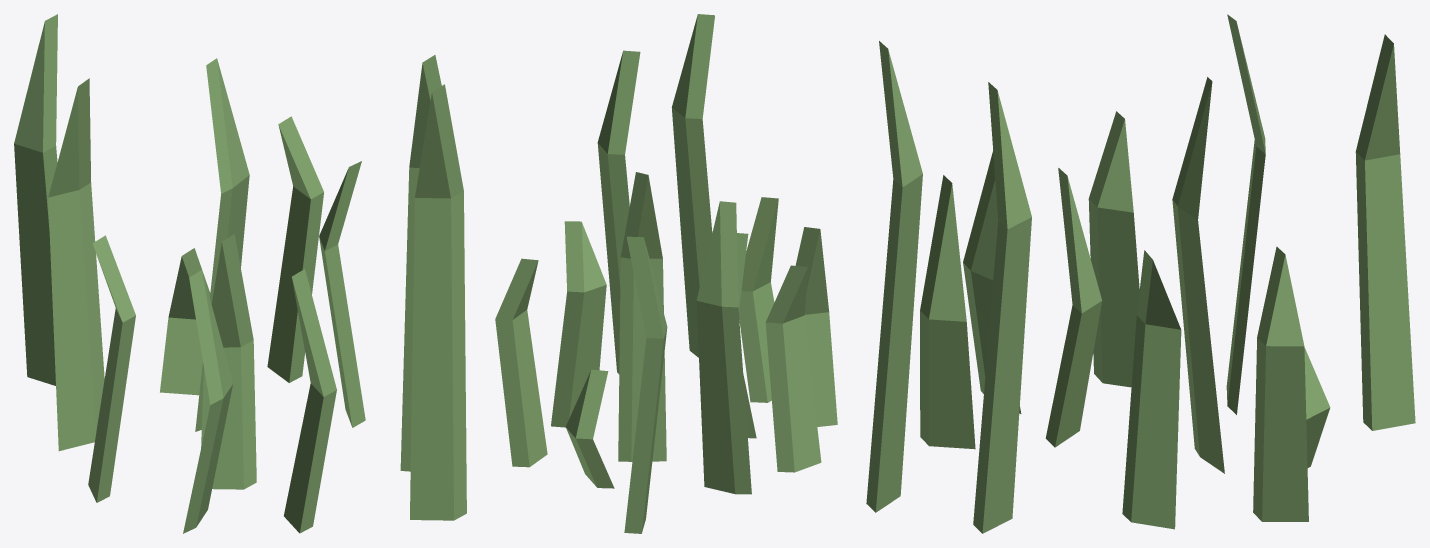
Rendered from grass_short.glb.
The picture shows the model from 3 angles, left to right: view 1: azimuth 30°, elevation 25°; view 2: azimuth 150°, elevation 25°; view 3: azimuth 270°, elevation 25°; orthographic projection. The views are drawn at different scales.
Parts seen in each view (by area): view 1: Grass_Short; view 2: Grass_Short; view 3: Grass_Short.
Part boxes in pixels (x1=…): Grass_Short: x1=14, y1=14, x2=466, y2=533; Grass_Short: x1=495, y1=14, x2=837, y2=533; Grass_Short: x1=866, y1=14, x2=1415, y2=533.
Size of the model in its own units: 0.3162 by 0.4046 by 0.4417.
